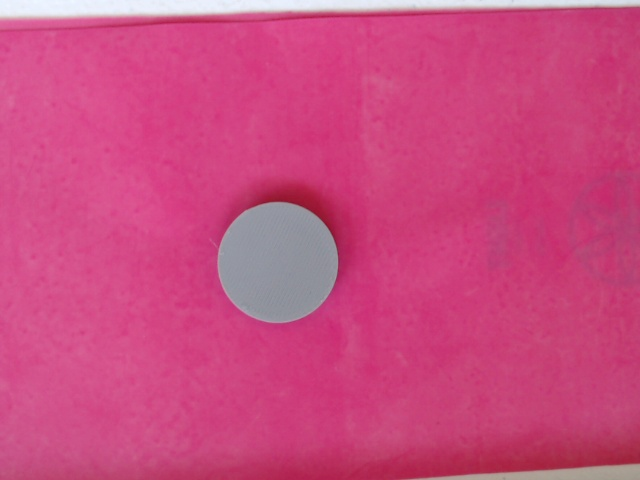NonDefective: (217, 200, 340, 327)
